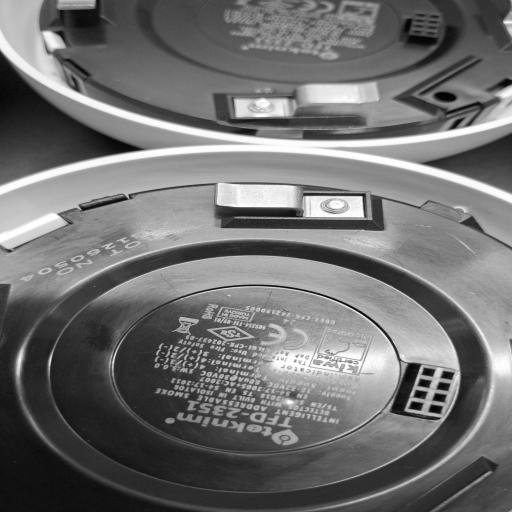konnektor: (388, 350, 469, 429)
yaysiz: (206, 73, 398, 131), (193, 176, 388, 232)
